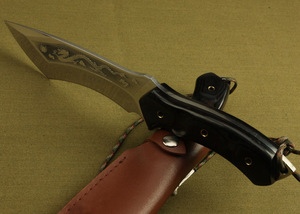knief: (5, 18, 296, 185)
